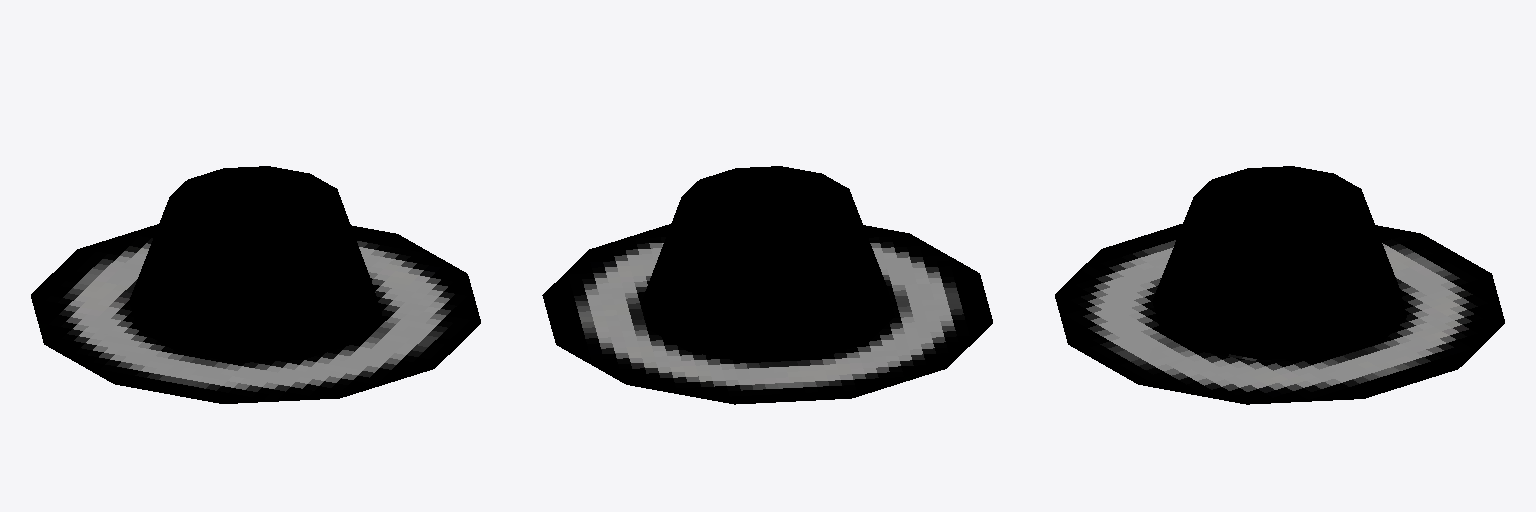
3 renders of one model, left to right at view 1: azimuth 30°, elevation 25°; view 2: azimuth 150°, elevation 25°; view 3: azimuth 270°, elevation 25°, orthographic.
Visible parts, largest first — view 1: Metal_Disk_03_low; view 2: Metal_Disk_03_low; view 3: Metal_Disk_03_low.
Boxes of the visible parts, <box> form: Metal_Disk_03_low: <box>31,166,480,403</box>; Metal_Disk_03_low: <box>542,166,992,404</box>; Metal_Disk_03_low: <box>1055,166,1504,404</box>.
Bounding box in the file's own units: 0.5512 × 0.144 × 0.5512.
1 materials, 1 textured.